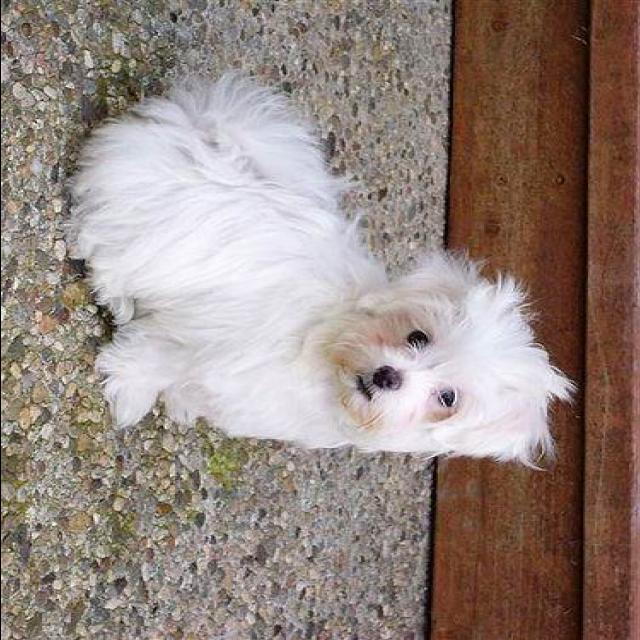maltese_dog: (60, 71, 577, 474)
